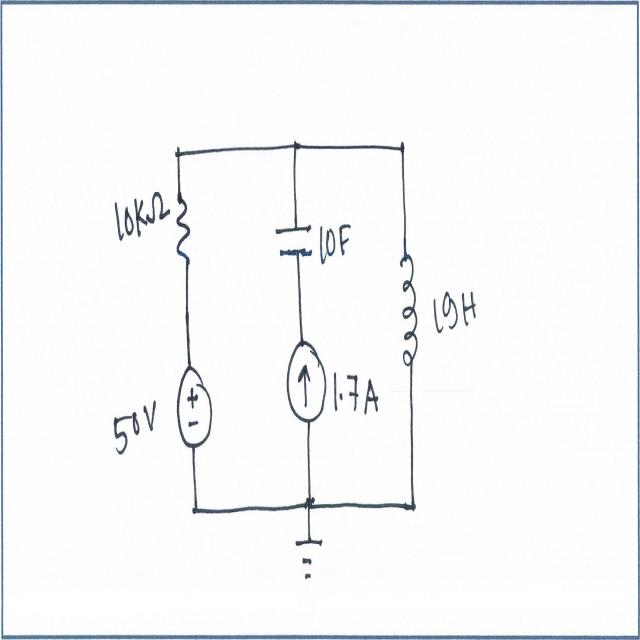capacitor: (272, 220, 315, 264)
current_source: (286, 339, 328, 427)
ground: (294, 532, 326, 586)
inductor: (400, 252, 420, 370)
resistor: (175, 197, 193, 275)
voltage_source: (170, 365, 216, 451)
